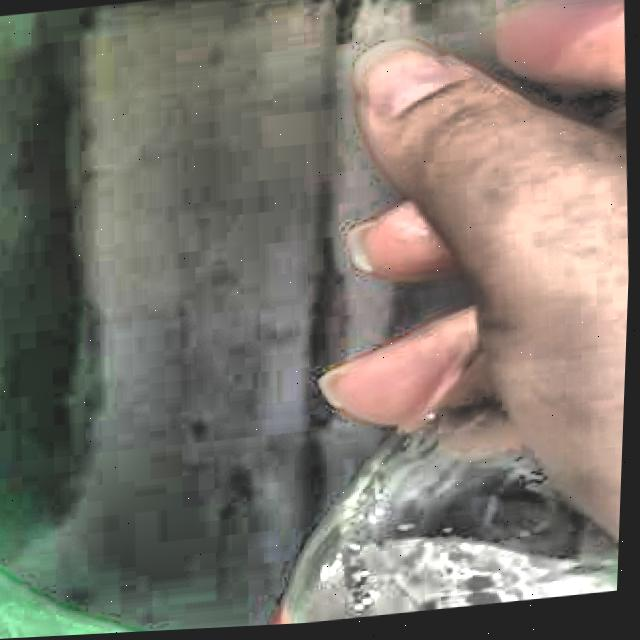glass: (292, 363, 623, 627)
